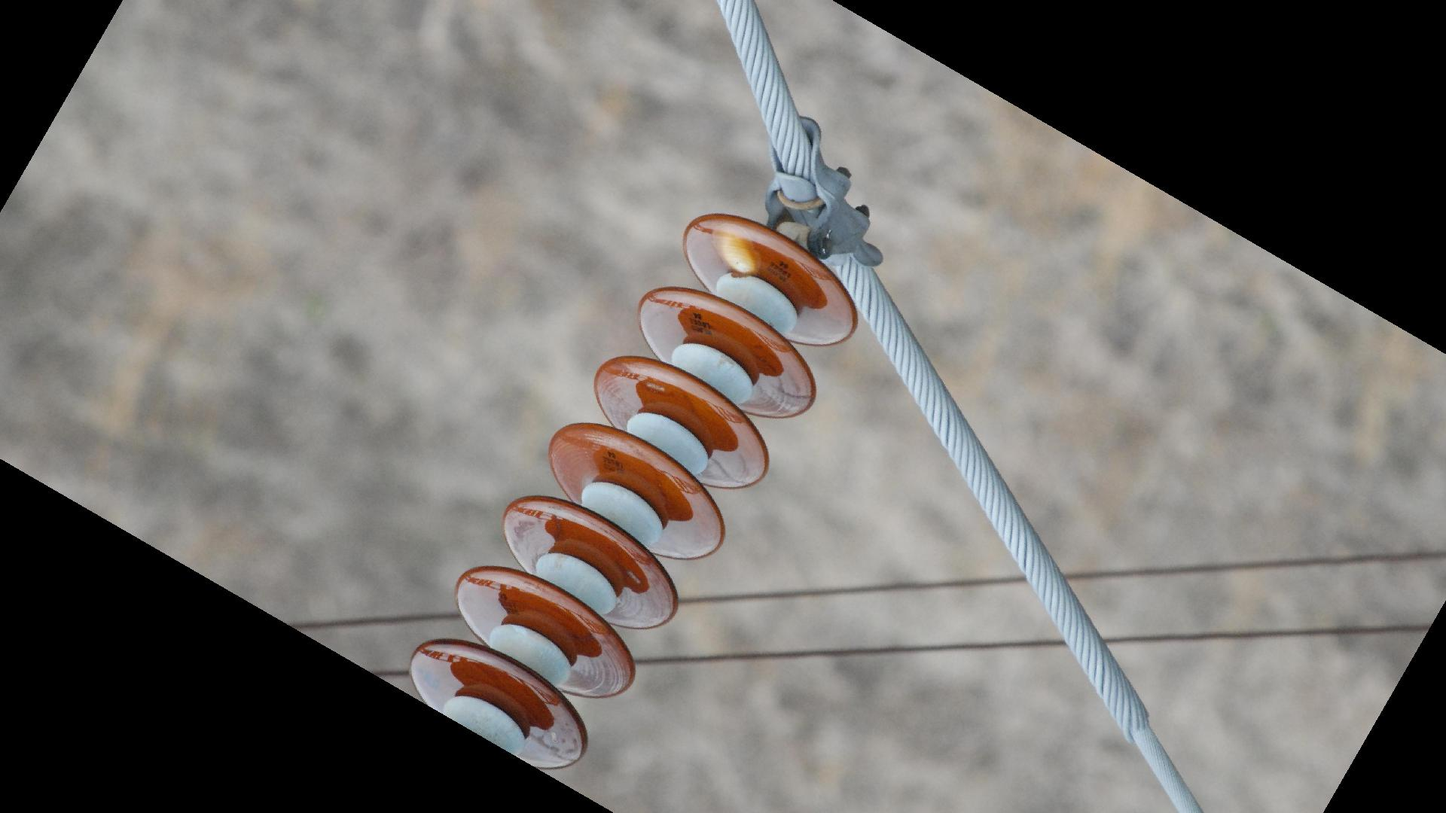insulator: (404, 209, 868, 778)
insulator_flashover: (706, 219, 763, 278)
